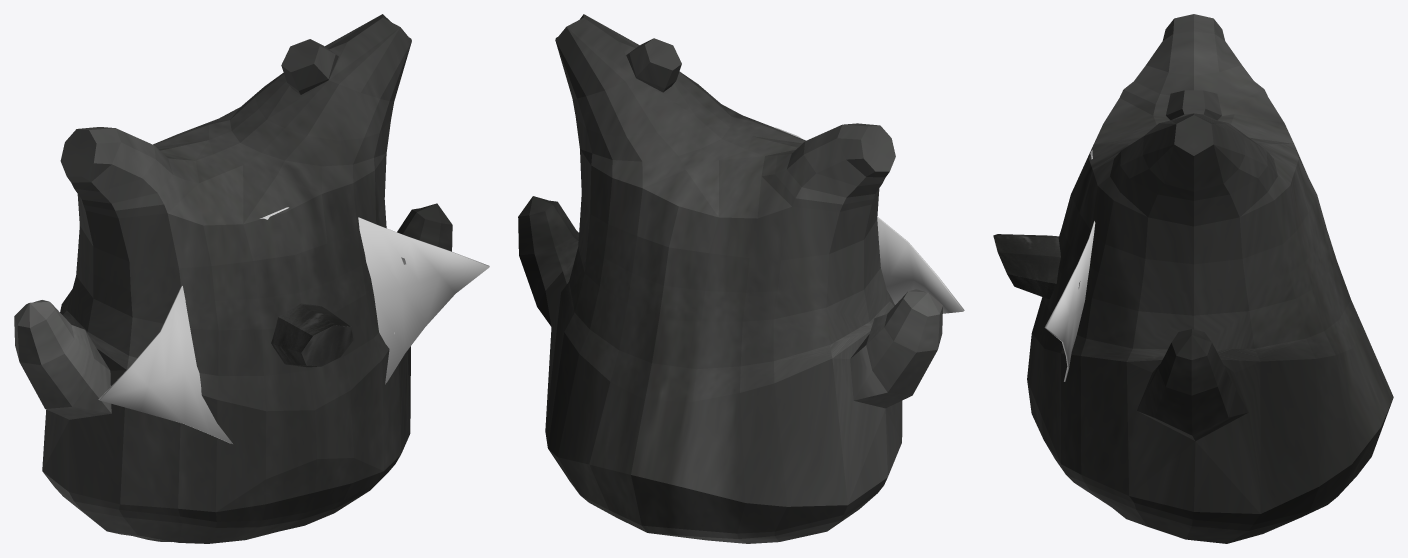
The model's file is frame_0072.obj.
3 renders of one model, left to right at view 1: azimuth 30°, elevation 25°; view 2: azimuth 150°, elevation 25°; view 3: azimuth 270°, elevation 25°, orthographic. The views are drawn at different scales.
Visible parts, largest first — view 1: korok, leaf, nose; view 2: korok, leaf; view 3: korok, nose, leaf.
Boxes of the visible parts, left/top/right/bottom form: korok: left=14, top=14, right=452, bottom=543; leaf: left=98, top=207, right=489, bottom=443; nose: left=271, top=303, right=353, bottom=367; korok: left=518, top=14, right=942, bottom=543; leaf: left=775, top=127, right=964, bottom=313; korok: left=1027, top=14, right=1393, bottom=543; nose: left=993, top=234, right=1060, bottom=299; leaf: left=1044, top=150, right=1095, bottom=381.
Bounding box in the file's own units: 1.56 × 1.61 × 1.27.
